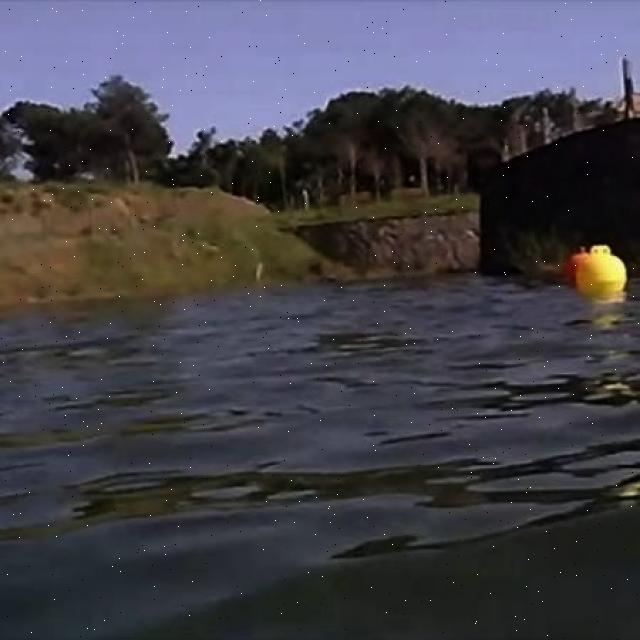buoy: (580, 246, 626, 296), (566, 250, 590, 282)
